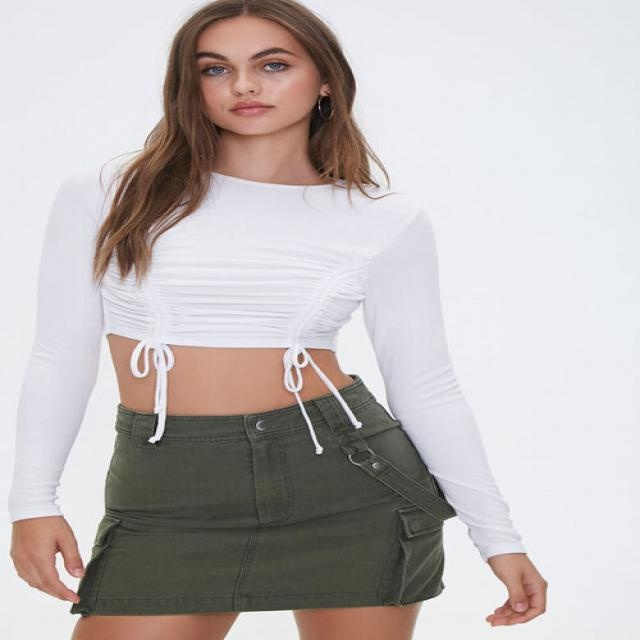Crop_Top: (102, 185, 358, 416)
Miniskirt: (68, 373, 456, 640)
